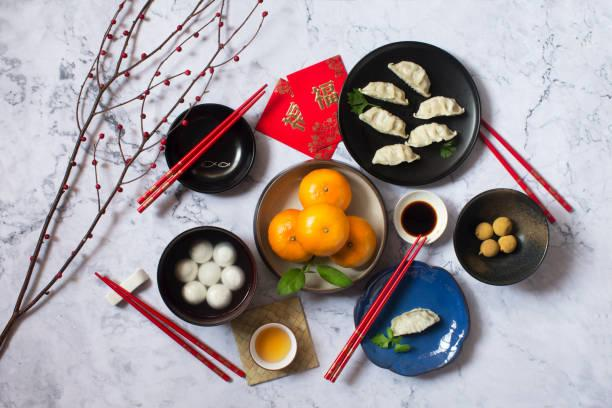Braised Crucian Carp: (339, 44, 485, 189), (254, 158, 390, 294), (156, 227, 256, 326)
